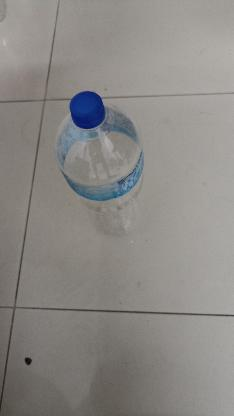Plastic Bottle: (48, 78, 162, 238)
